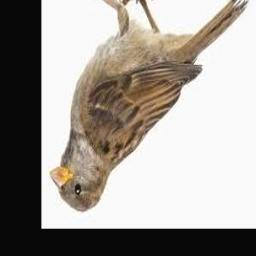Sparrow: (50, 0, 248, 212)
